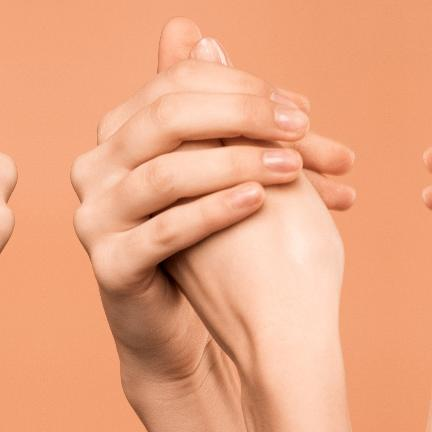Nail: (194, 37, 230, 67), (262, 149, 300, 173), (229, 182, 264, 208), (274, 106, 308, 132), (269, 90, 297, 106)
